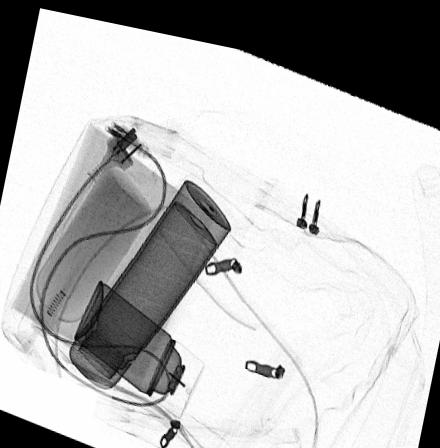Sprayer: (71, 274, 205, 412)
